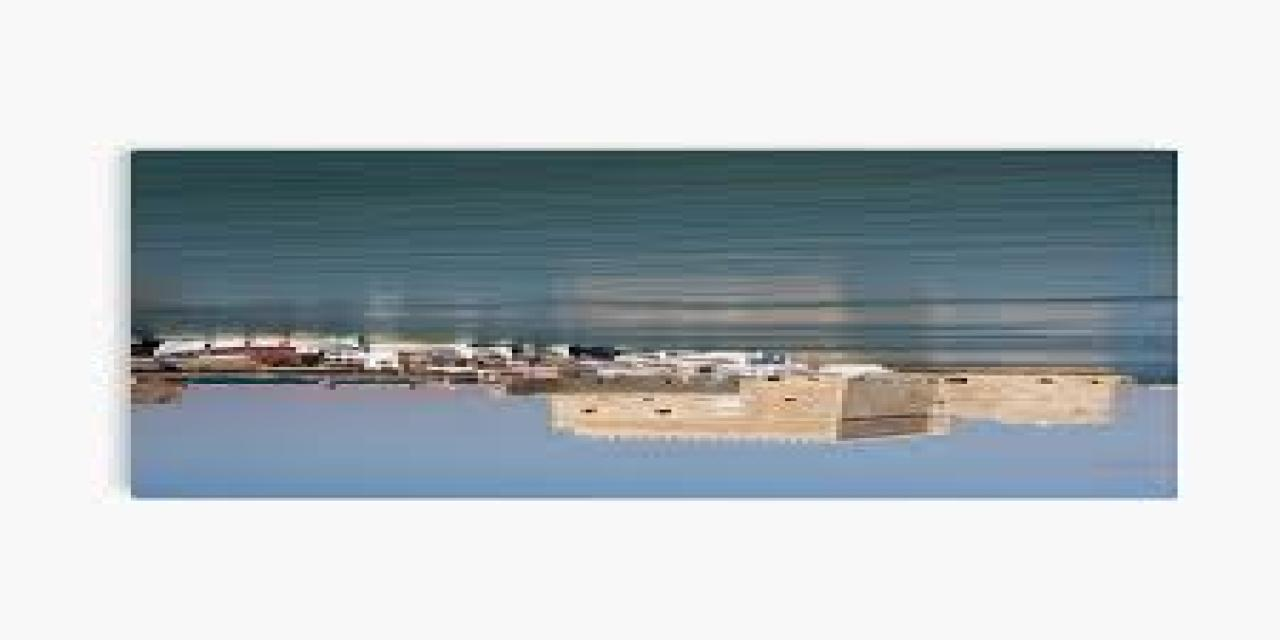Kules: (544, 363, 1146, 441)
